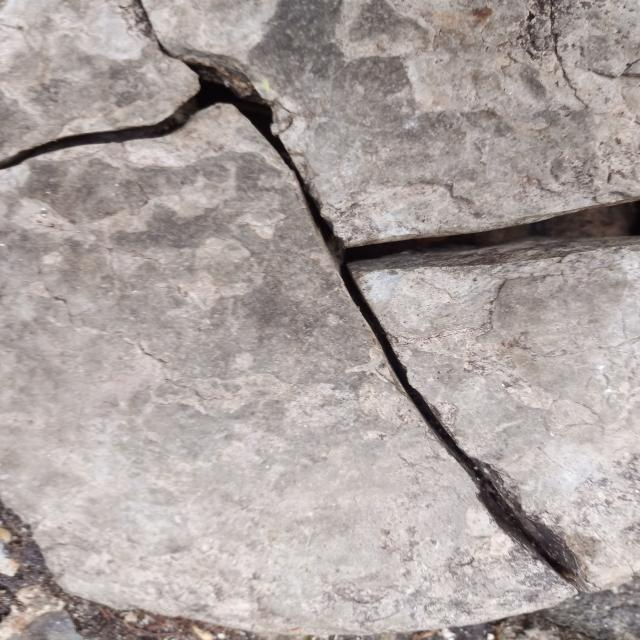branched cracks: (0, 0, 639, 588)
